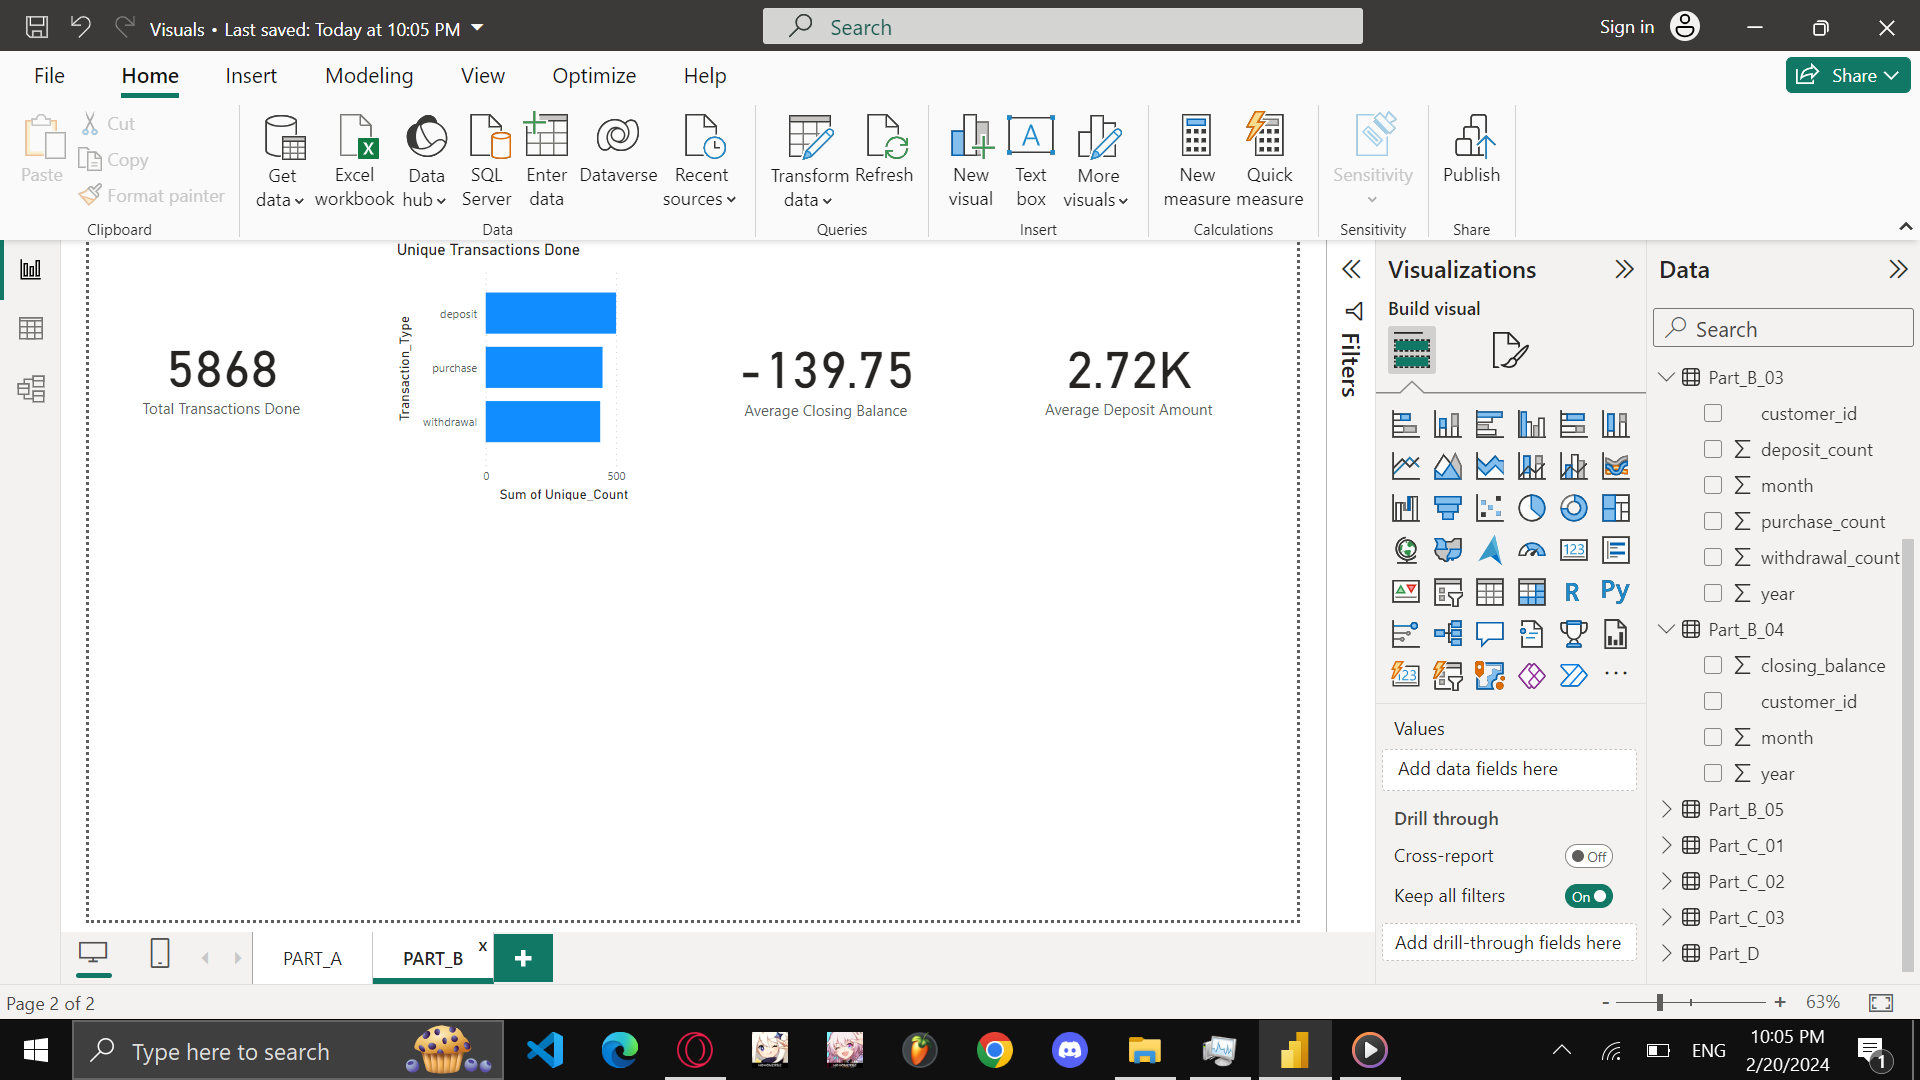

This screenshot's page, from the dashboard's own definition file:
{"tool":"powerbi","page":{"name":"PART_B","canvas":[1280,720],"ordinal":1},"visuals":[{"type":"card","fields":{"Values":["Sum(Part_B_01.Total_Amount)"]},"box":[50.9,542.1,310.5,140.4],"z":0},{"type":"barChart","title":"Unique Transactions Done","fields":{"Category":["Part_B_01.Transaction_Type"],"Y":["Sum(Part_B_01.Unique_Count)"]},"box":[422.8,131.6,791.2,550.9],"z":1000},{"type":"card","fields":{"Values":["Sum(Part_B_02.average_deposit_amount)"]},"box":[29.5,354.5,309.1,122.7],"z":2000},{"type":"card","fields":{"Values":["Avg(Part_B_04.closing_balance)"]},"box":[29.8,131.6,308.8,105.3],"z":3000}]}

Visuals, with their boxes on the page's 1280x720 design canvas (x1, y1, x2, y2). These are canvas units, not pixel positions in the 1920x1080 screenshot, which may show the page scaled, cropped or inside an application window:
card - Sum(Part_B_01.Total_Amount): crop(51, 542, 361, 682)
"Unique Transactions Done" barChart: crop(423, 132, 1214, 682)
card - Sum(Part_B_02.average_deposit_amount): crop(30, 354, 339, 477)
card - Avg(Part_B_04.closing_balance): crop(30, 132, 339, 237)
